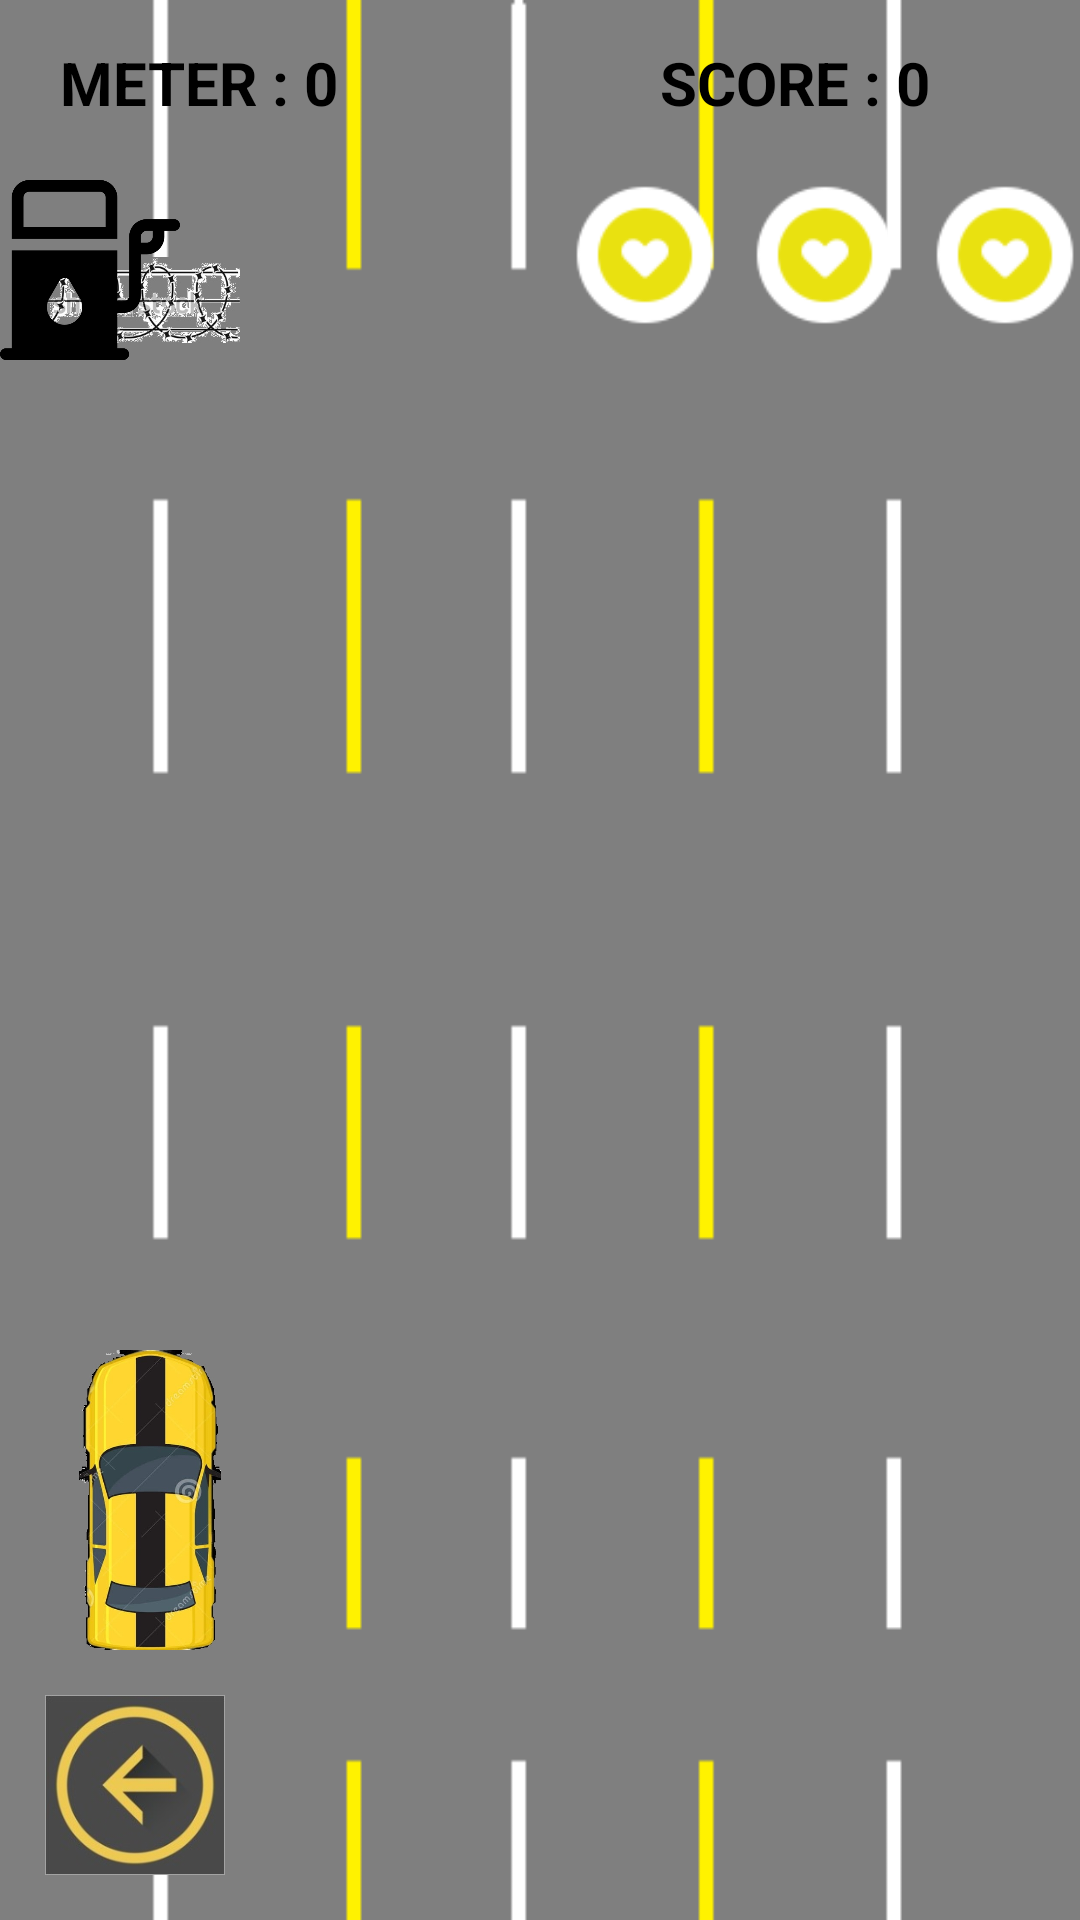

Icons on this 1080x1920 Android screen, each with its box as (x1, y1, x2, y2):
car: (79, 1350, 221, 1650)
heart: (576, 180, 714, 324), (756, 180, 900, 324), (936, 186, 1074, 324)
leftbutton: (45, 1695, 225, 1875)
